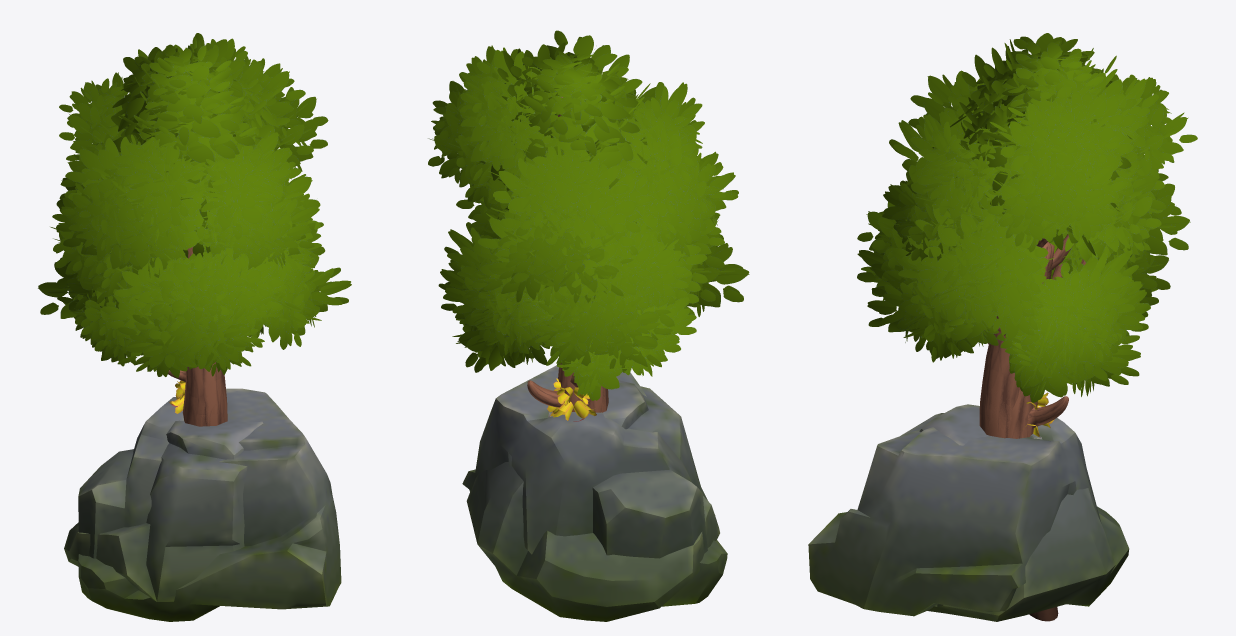
The model's file is props.glb.
3 views of the same model, side by side, from view 1: azimuth 30°, elevation 25°; view 2: azimuth 150°, elevation 25°; view 3: azimuth 270°, elevation 25° (orthographic). The views are drawn at different scales.
Parts seen in each view (by area): view 1: CommonTree_1, Rock_Medium_3, Rock_Medium_1, CommonTree_5; view 2: CommonTree_1, Rock_Medium_3, CommonTree_5, Rock_Medium_1, Flower_4_Single; view 3: CommonTree_1, Rock_Medium_3, CommonTree_5, Rock_Medium_1.
Boxes of the visible parts, x1,y1,x2,y2 form: CommonTree_1: (38,33,351,426); Rock_Medium_3: (78,388,341,621); Rock_Medium_1: (64,420,263,601); CommonTree_5: (57,49,320,381); CommonTree_1: (428,30,749,412); Rock_Medium_3: (462,365,727,606); CommonTree_5: (456,72,724,411); Rock_Medium_1: (466,380,719,621); Flower_4_Single: (547,378,596,420); CommonTree_1: (857,33,1190,621); Rock_Medium_3: (808,418,1101,616); CommonTree_5: (875,74,1197,438); Rock_Medium_1: (901,404,1129,621).
Size of the model in its own units: 4.31 by 7.34 by 4.81.
Materials: 12 (12 with a texture image).
